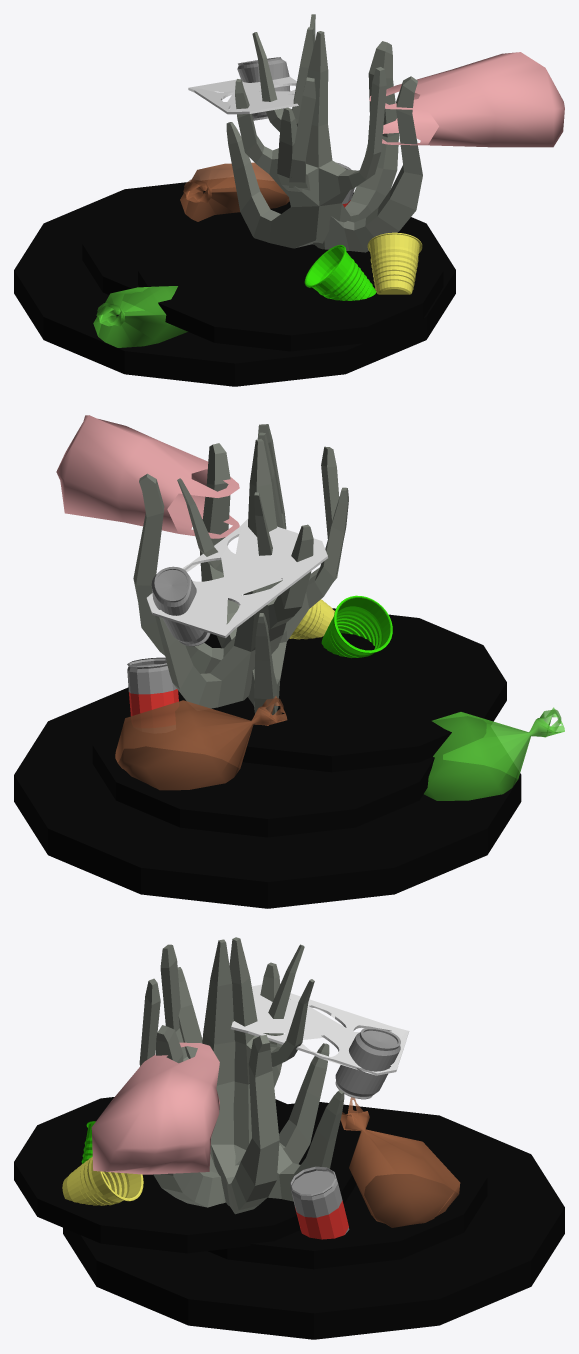
Rendered from recife lixo.fbx.
The picture shows the model from 3 angles, top to bottom: view 1: azimuth 30°, elevation 25°; view 2: azimuth 150°, elevation 25°; view 3: azimuth 270°, elevation 25°; orthographic projection. The views are drawn at different scales.
Visible parts, largest first — view 1: Cylinder.001, Cylinder.003, Cube.035_Cube.000, Plane_Plane.000, Cube.035_Cube.001, Cylinder.000, Plane.001_Plane.003, Plane.001_Plane.001, Plane.006, Circle_Circle.001, Circle_Circle.003; view 2: Cylinder.003, Cylinder.001, Cylinder.000, Cube.035_Cube.001, Plane_Plane.000, Plane.006, Cube.035_Cube.000, Plane.001_Plane.001, Plane.001_Plane.003, Circle_Circle.003, Cylinder.035, Circle_Circle.001; view 3: Cylinder.003, Cylinder.001, Cube.035_Cube.000, Cylinder.000, Plane_Plane.000, Cube.035_Cube.001, Plane.001_Plane.001, Plane.006, Cylinder.035, Circle_Circle.001.
Part boxes in pixels (x1,y1,x2,y2): Cylinder.001: (138, 206, 443, 351); Cylinder.003: (14, 182, 455, 386); Cube.035_Cube.000: (226, 31, 398, 248); Plane_Plane.000: (369, 52, 564, 147); Cube.035_Cube.001: (235, 14, 422, 252); Cylinder.000: (82, 185, 290, 313); Plane.001_Plane.003: (93, 286, 187, 347); Plane.001_Plane.001: (180, 162, 289, 221); Plane.006: (188, 57, 298, 120); Circle_Circle.001: (367, 232, 422, 294); Circle_Circle.003: (304, 245, 376, 300); Cylinder.003: (14, 687, 521, 908); Cylinder.001: (178, 608, 506, 772); Cylinder.000: (92, 702, 442, 837); Cube.035_Cube.001: (155, 438, 342, 708); Plane_Plane.000: (56, 415, 239, 538); Plane.006: (146, 518, 327, 646); Cube.035_Cube.000: (133, 424, 348, 715); Plane.001_Plane.001: (115, 696, 287, 790); Plane.001_Plane.003: (424, 707, 564, 800); Circle_Circle.003: (321, 595, 392, 658); Cylinder.035: (127, 657, 178, 716); Circle_Circle.001: (289, 599, 334, 639); Cylinder.003: (63, 1102, 564, 1339); Cylinder.001: (14, 1097, 356, 1253); Cube.035_Cube.000: (139, 939, 329, 1214); Cylinder.000: (208, 1105, 487, 1269); Plane_Plane.000: (91, 1042, 219, 1174); Cube.035_Cube.001: (153, 937, 344, 1207); Plane.001_Plane.001: (340, 1097, 460, 1227); Plane.006: (230, 984, 409, 1099); Cylinder.035: (290, 1166, 349, 1239); Circle_Circle.001: (62, 1157, 143, 1205).
Size of the model in its own units: 1746 by 1143 by 1662.
